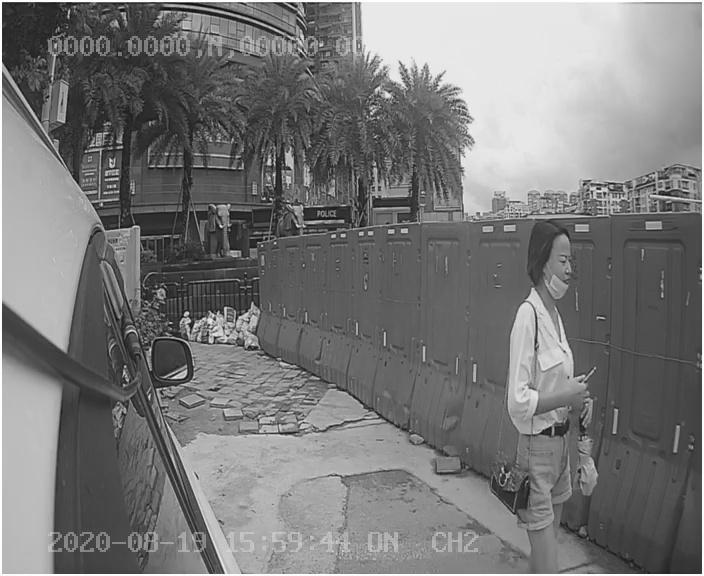person: (488, 215, 627, 540)
